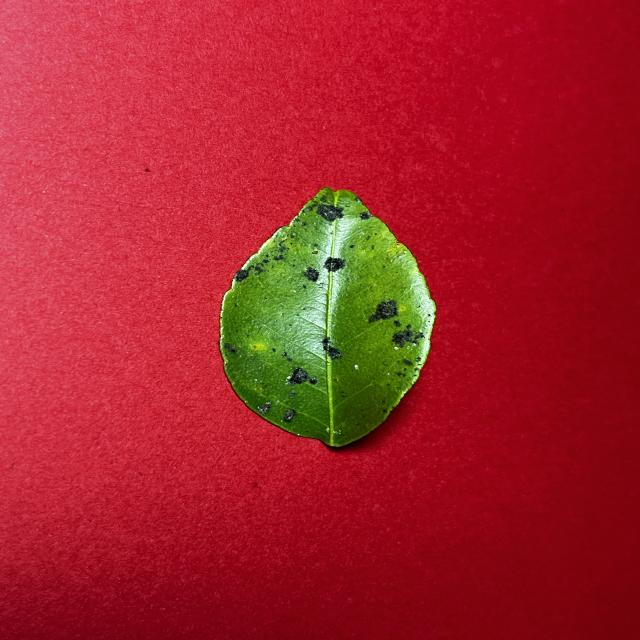sooty_mold: (220, 188, 435, 447)
